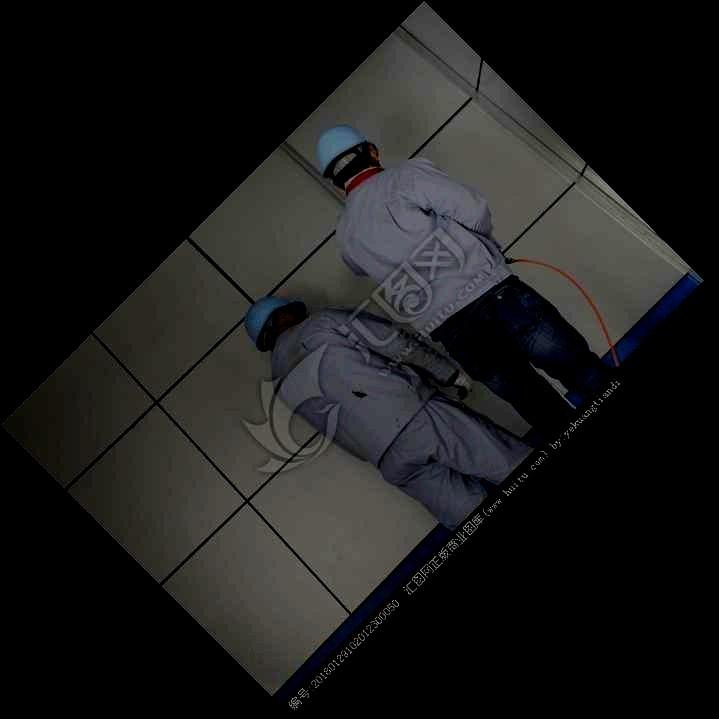helmet: (315, 122, 381, 188), (243, 295, 308, 352)
